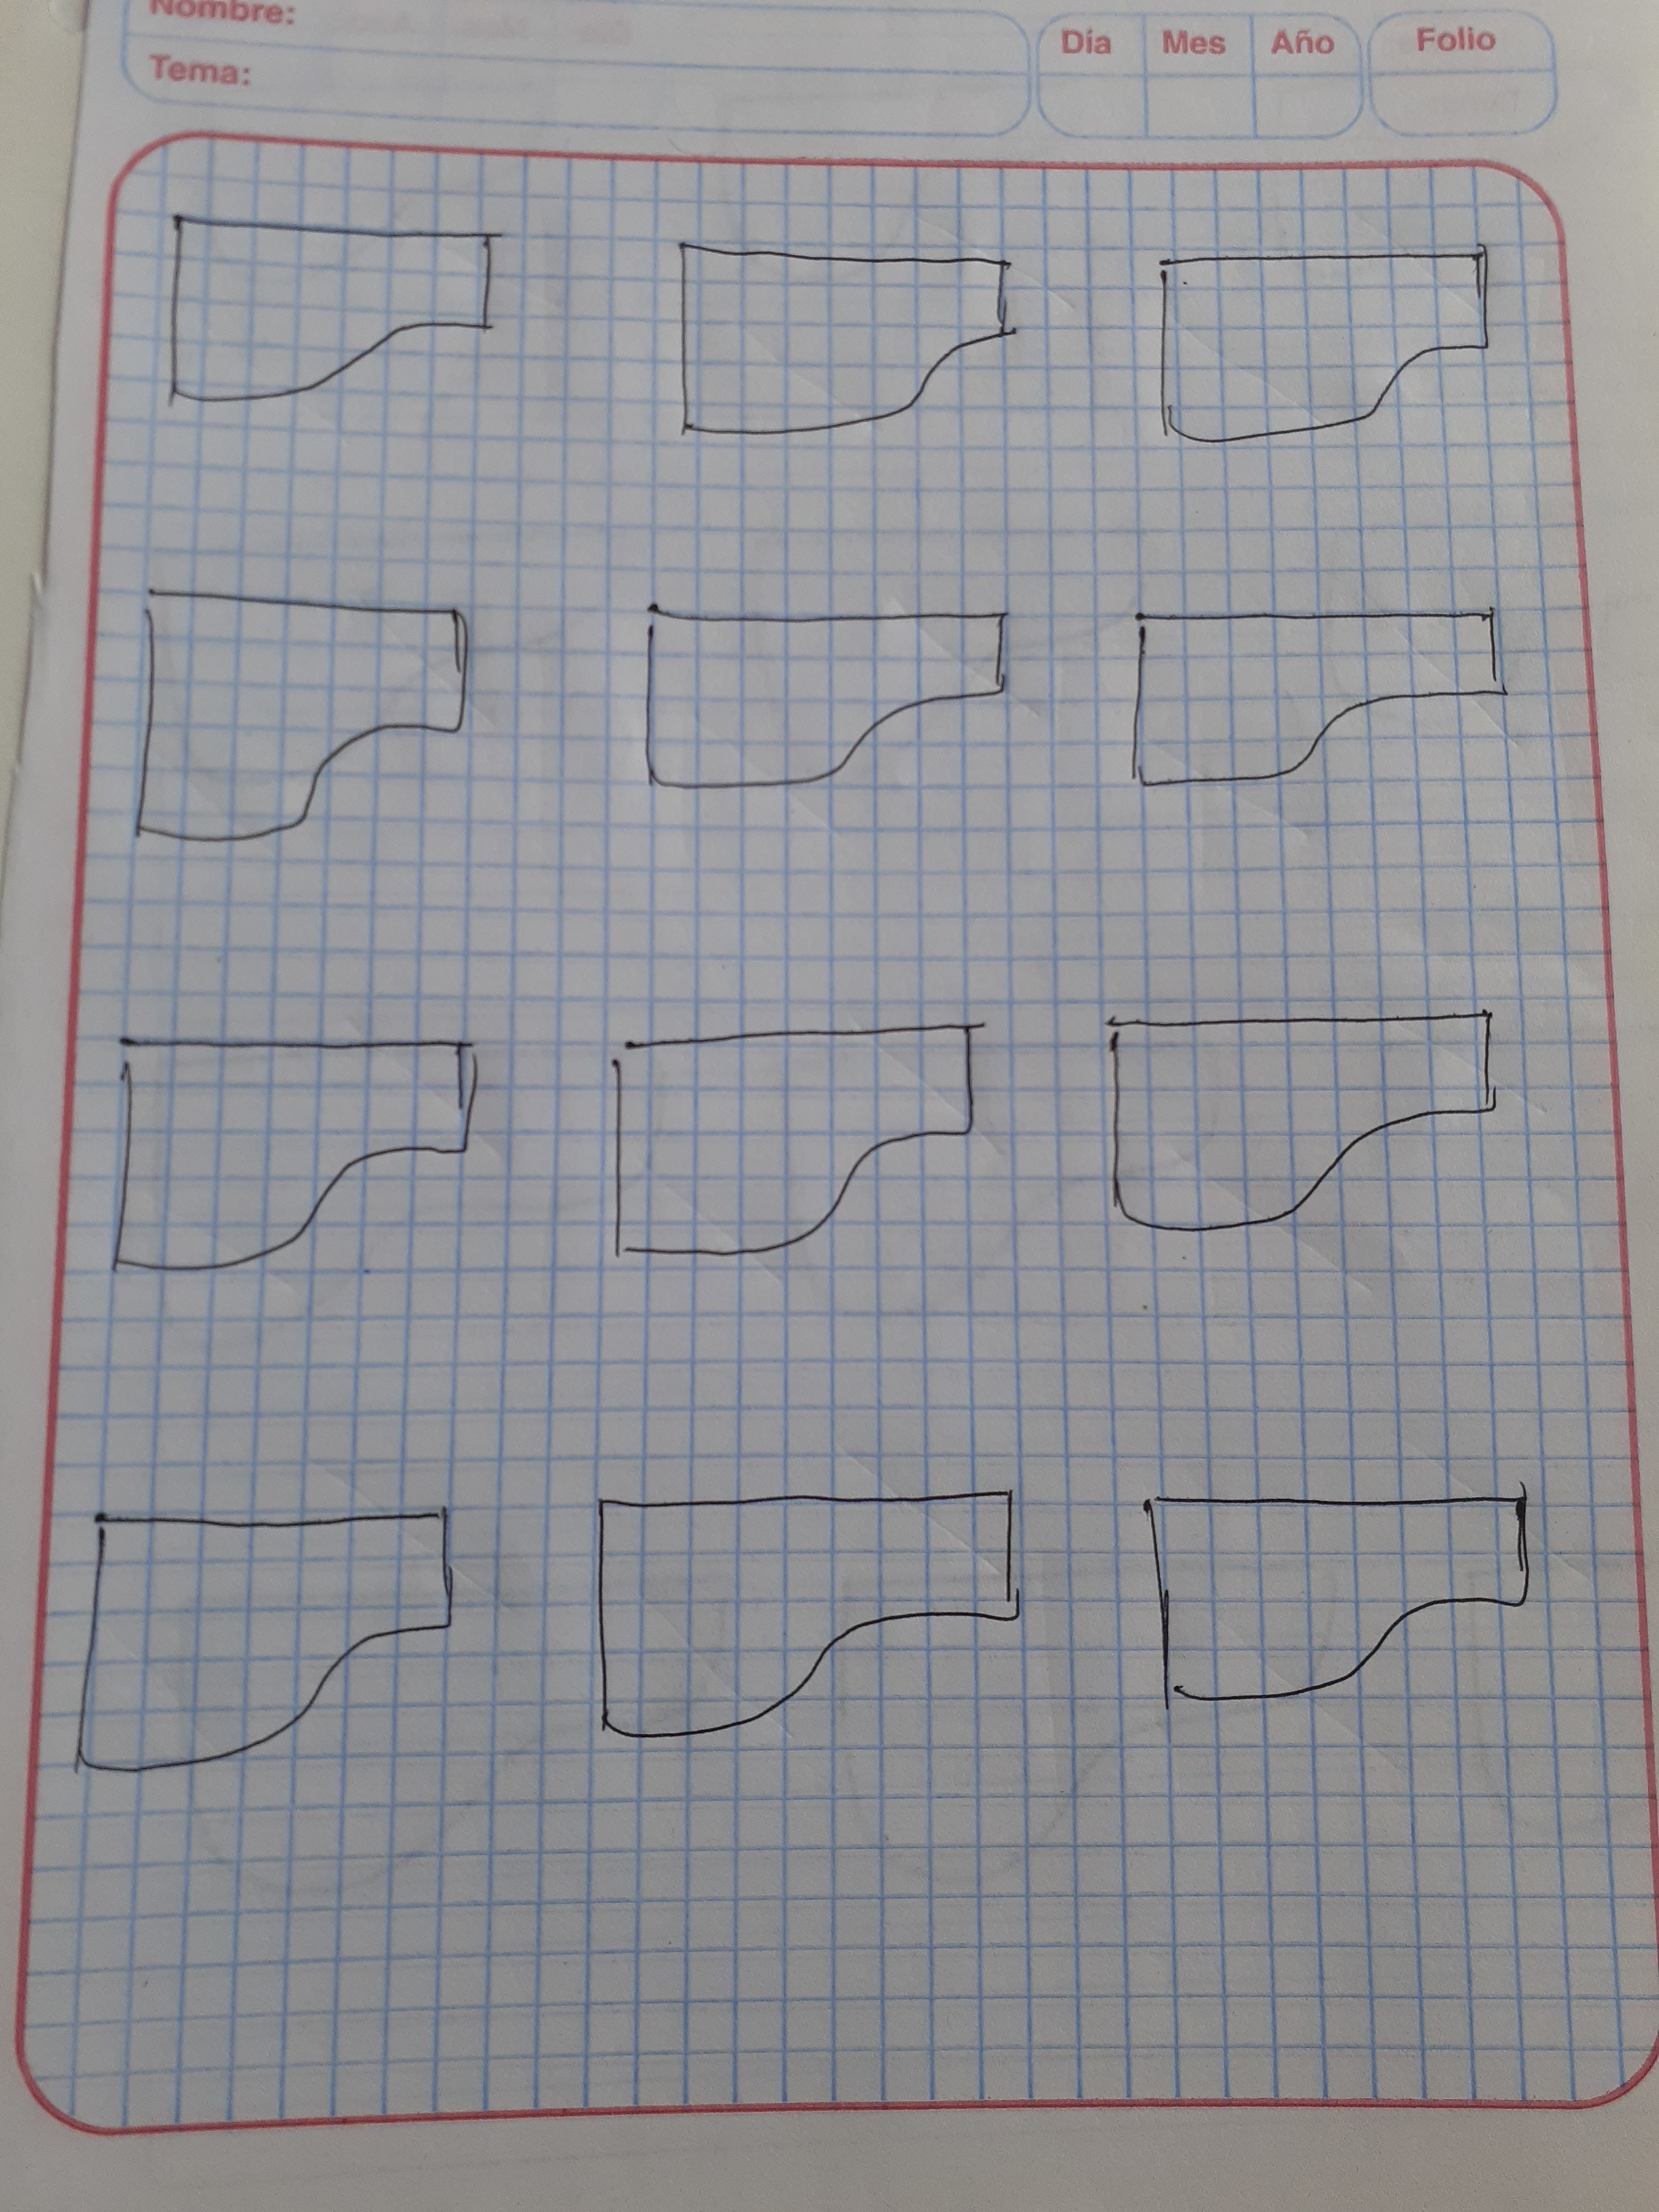print: (61, 1465, 488, 1808), (580, 1439, 1033, 1750), (1115, 1465, 1577, 1743), (577, 995, 1004, 1282), (99, 1014, 495, 1313), (1072, 977, 1513, 1242), (115, 564, 491, 866), (620, 564, 1040, 831), (1122, 218, 1553, 475), (1105, 578, 1539, 827), (153, 171, 516, 446), (648, 218, 1047, 465)
